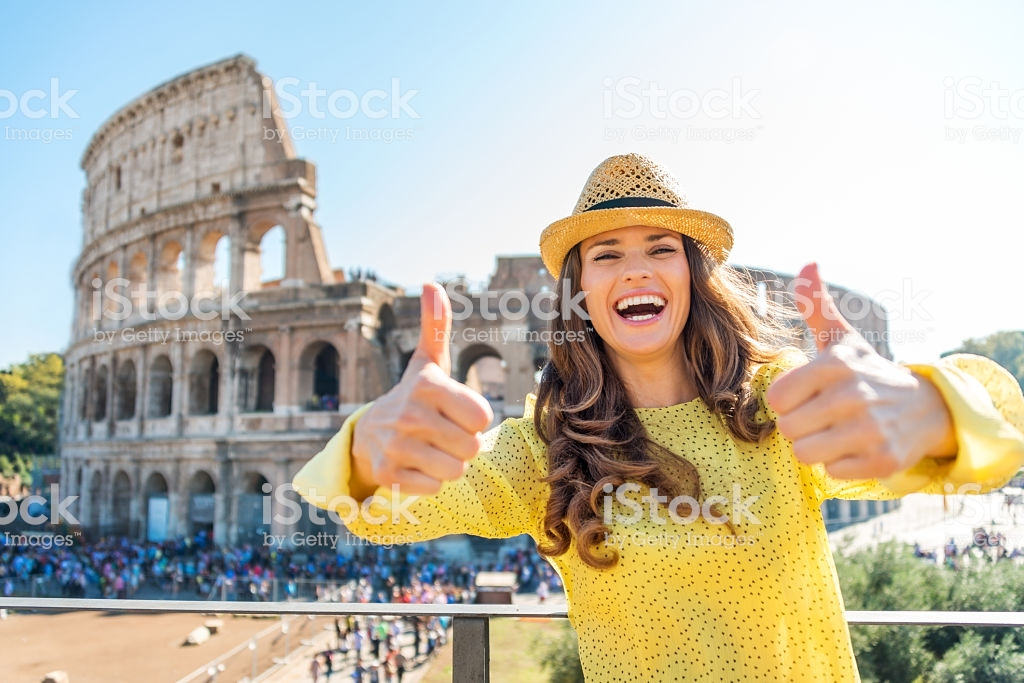thumbsup: (763, 262, 903, 481), (361, 282, 490, 498)
